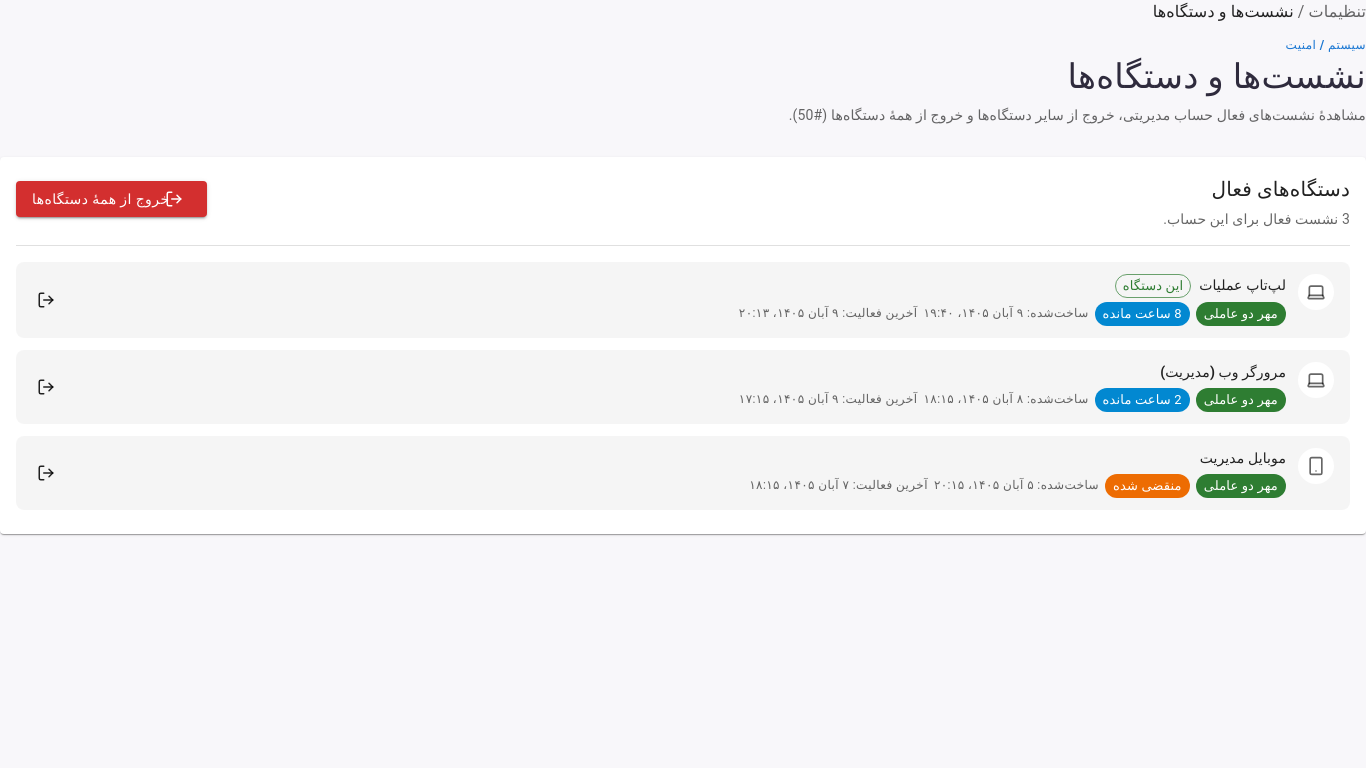
SessionManagementPage › revokes a non-current device from its row and reports the outcome
The width and height of the screenshot is (1366, 768).
Expected: the heading "مرورگر وب (مدیریت)" is shown, [1160, 362, 1286, 384]
Click the button named "خروج از دستگاه مرورگر وب (مدیریت)" at (46, 387), box [32, 373, 60, 401]
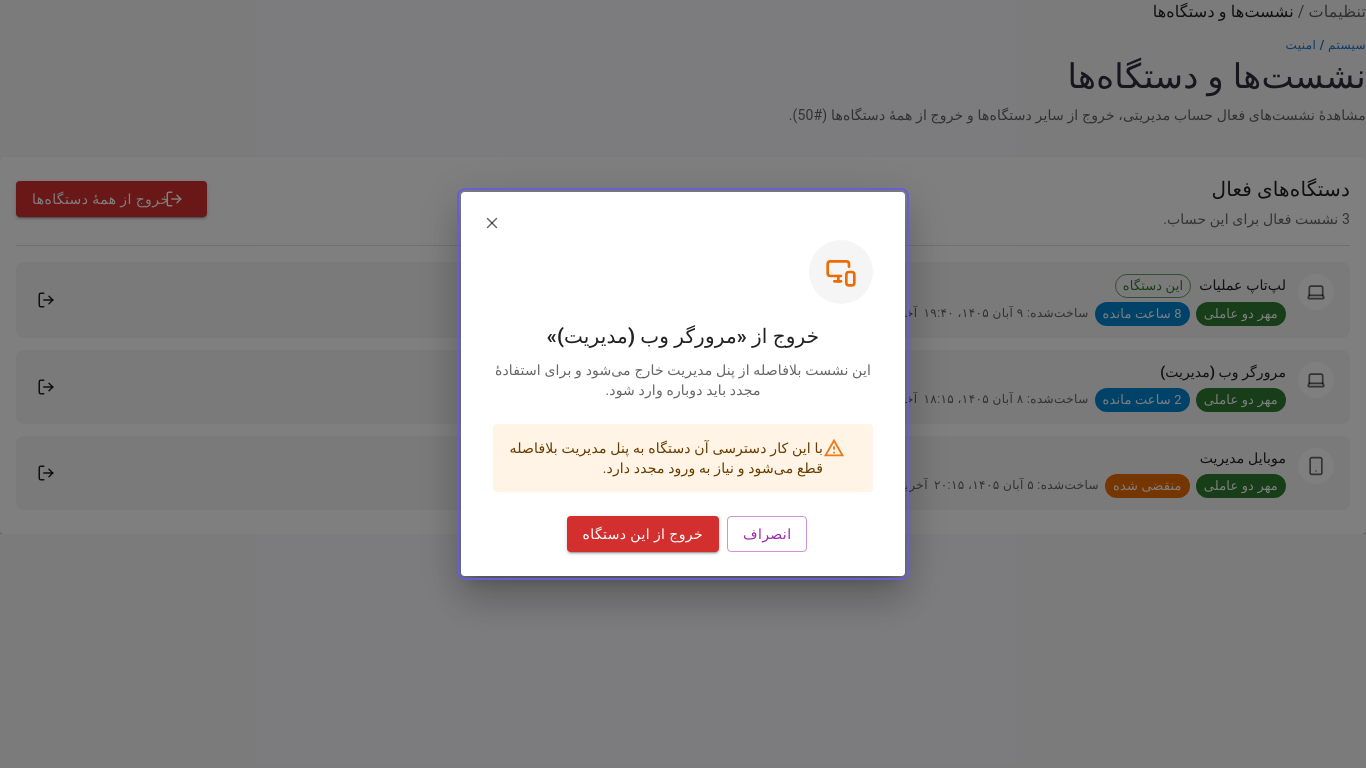
Click the button "خروج از این دستگاه" at (643, 534), box [566, 516, 719, 552]
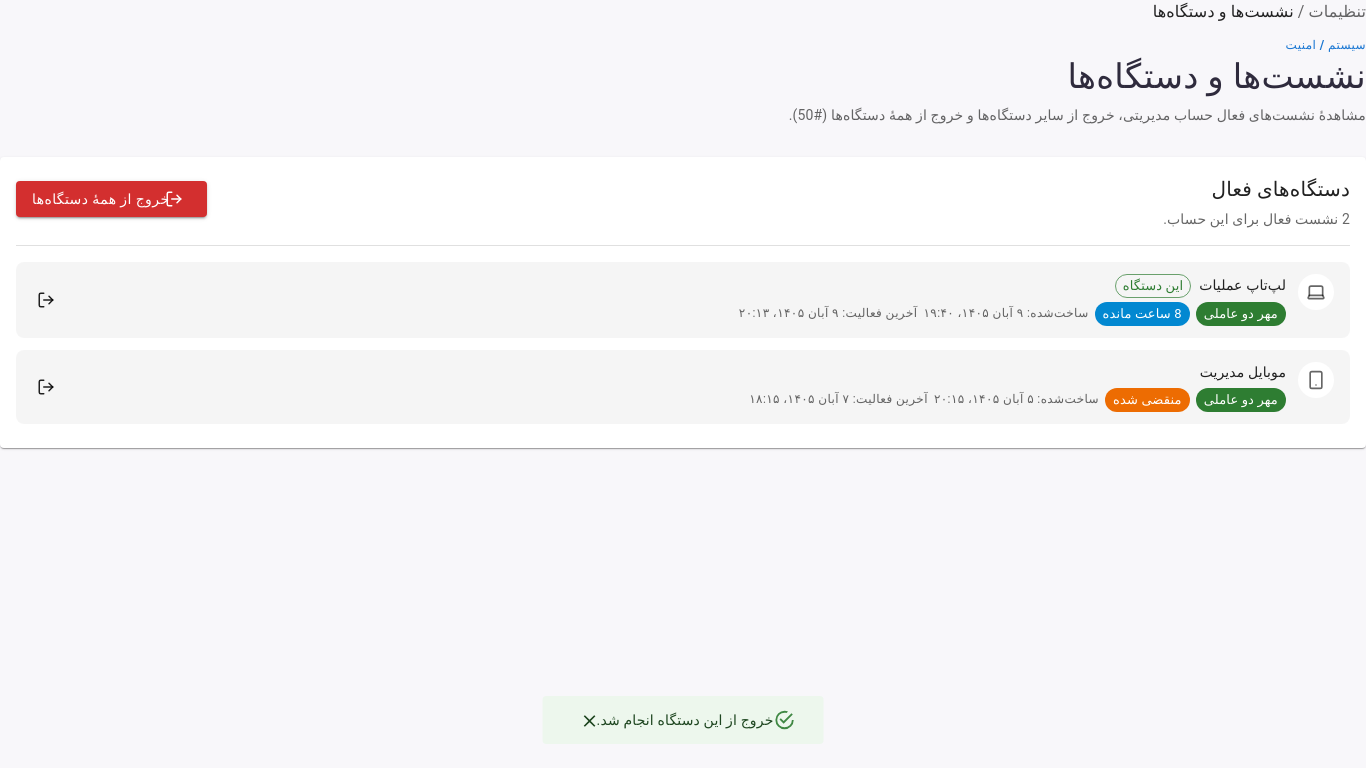
Expected: the heading "مرورگر وب (مدیریت)" is gone
Expected: the text "خروج از این دستگاه انجام شد." is shown, [597, 712, 774, 728]
